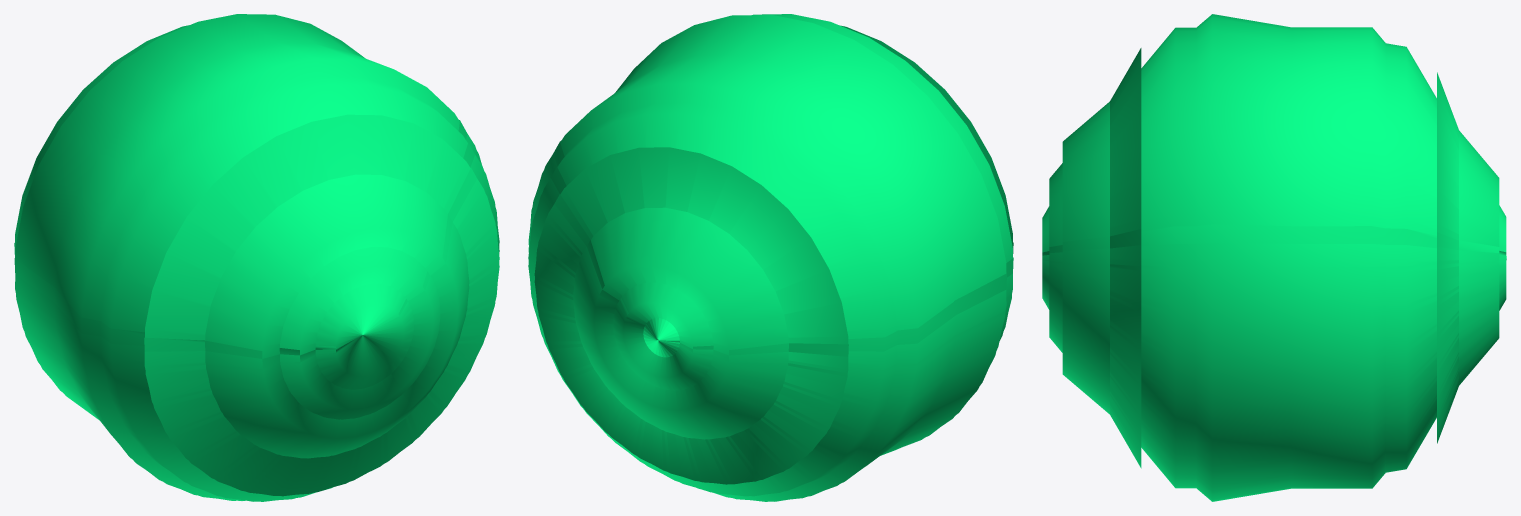
3 views of the same model, side by side, from view 1: azimuth 30°, elevation 25°; view 2: azimuth 150°, elevation 25°; view 3: azimuth 270°, elevation 25° (orthographic). The views are drawn at different scales.
Parts seen in each view (by area): view 1: torus_solid; view 2: torus_solid; view 3: torus_solid.
Boxes of the visible parts, x1=… form: torus_solid: x1=14, y1=14, x2=499, y2=501; torus_solid: x1=528, y1=14, x2=1013, y2=501; torus_solid: x1=1042, y1=14, x2=1506, y2=501.
Size of the model in its own units: 4.19 by 4.19 by 3.99.
